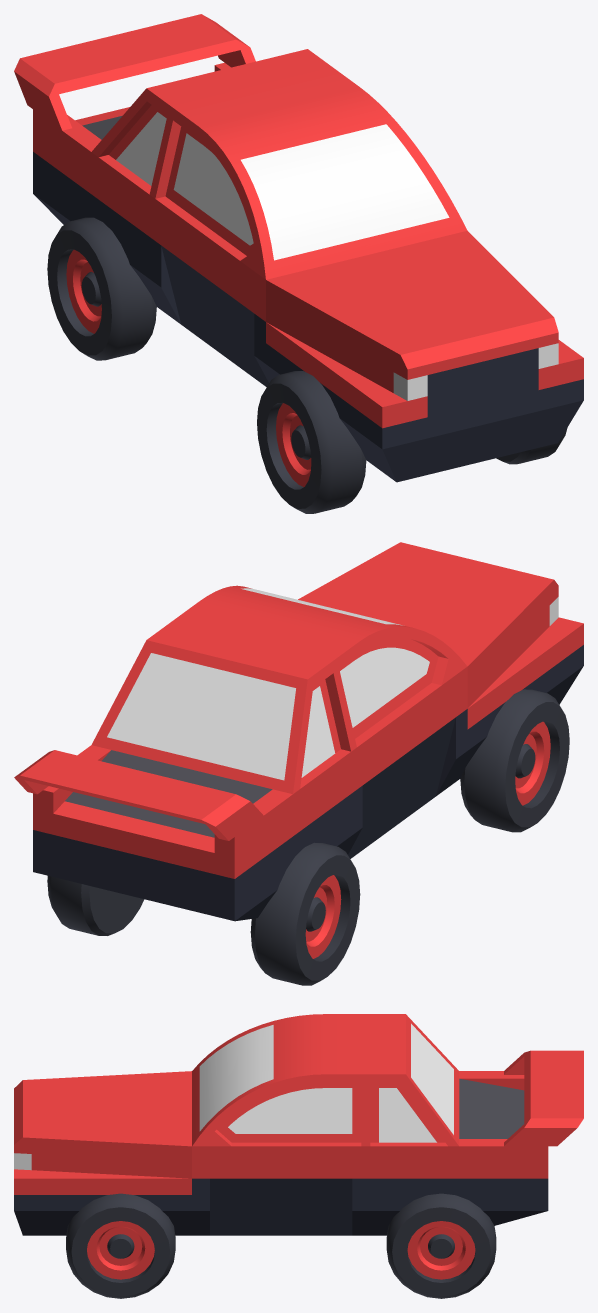
The model's file is RacingCar.fbx.
The picture shows the model from 3 angles, top to bottom: view 1: azimuth 30°, elevation 25°; view 2: azimuth 150°, elevation 25°; view 3: azimuth 270°, elevation 25°; orthographic projection. The views are drawn at different scales.
Visible parts, largest first — view 1: body_frontTruck, body_topRound, wheel_standard (×3), body_edge, body_backFins, spoiler_small, body_topBackStandard; view 2: body_backFins, body_topBackStandard, wheel_standard (×3), body_frontTruck, body_topRound, body_edge, spoiler_small; view 3: body_frontTruck, body_topRound, wheel_standard (×2), body_edge, body_backFins, body_topBackStandard, spoiler_small.
Part boxes in pixels (<box>): body_frontTruck: <box>266,230,583,482</box>; body_topRound: <box>149,66,467,279</box>; wheel_standard (×3): <box>47,217,567,513</box>; body_edge: <box>149,195,273,386</box>; body_backFins: <box>33,62,230,315</box>; spoiler_small: <box>14,14,255,130</box>; body_topBackStandard: <box>92,49,330,185</box>; body_backFins: <box>33,745,351,921</box>; body_topBackStandard: <box>91,623,340,794</box>; wheel_standard (×3): <box>47,689,569,985</box>; body_frontTruck: <box>298,542,583,787</box>; body_topRound: <box>170,585,467,751</box>; body_edge: <box>344,666,467,858</box>; spoiler_small: <box>14,750,263,840</box>; body_frontTruck: <box>14,1071,191,1235</box>; body_topRound: <box>192,1014,370,1146</box>; wheel_standard (×2): <box>66,1193,496,1298</box>; body_edge: <box>192,1142,370,1235</box>; body_backFins: <box>370,1071,548,1235</box>; body_topBackStandard: <box>370,1014,459,1146</box>; spoiler_small: <box>504,1050,583,1146</box>.
Size of the model in its own units: 12.33 by 13.08 by 32.
